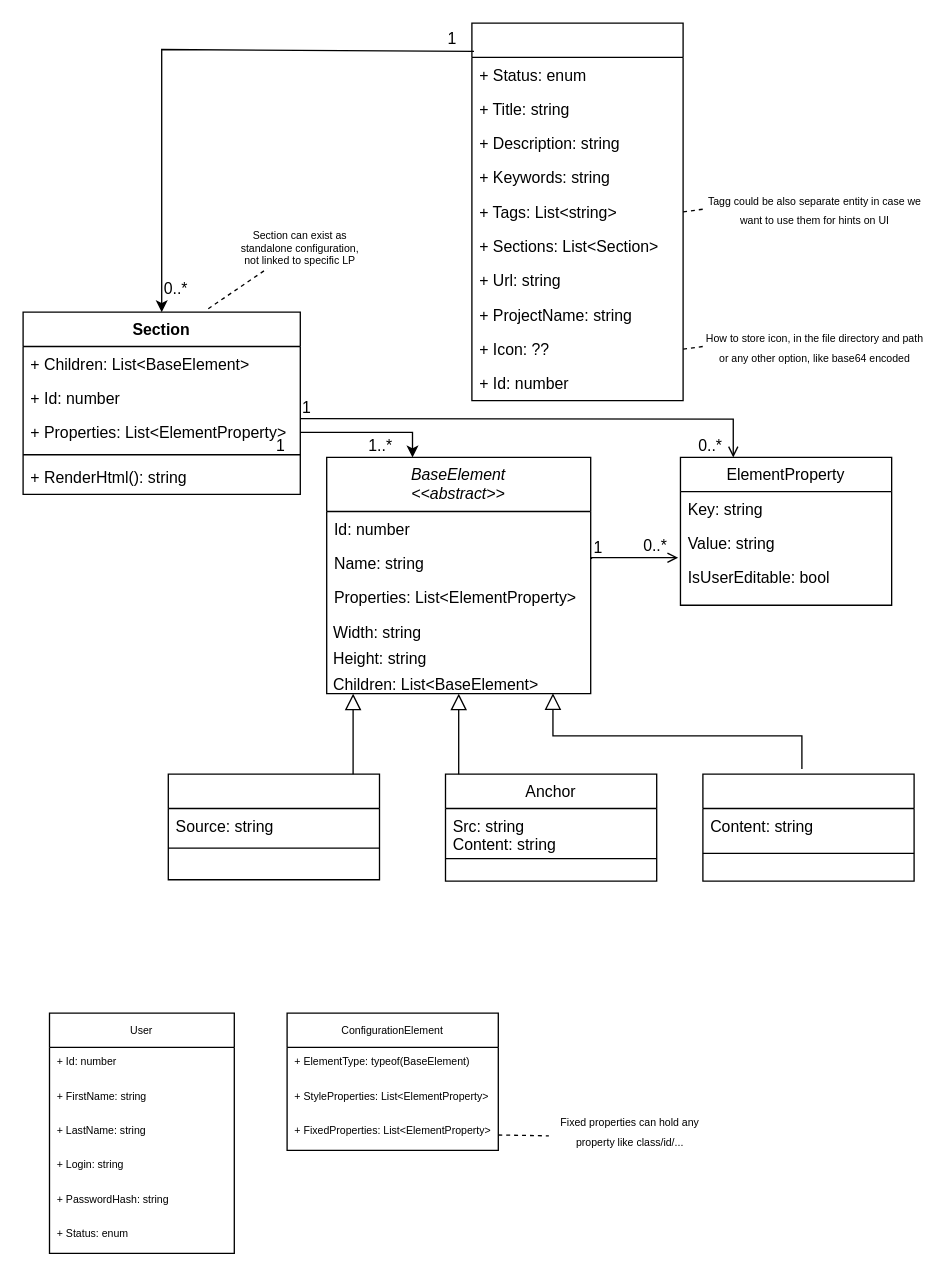
Image size: 950x1280. Some labels were removed from this diagram. Each missing label, with the box of its shape:
Custom: (702, 773, 914, 881)
Image: (167, 773, 380, 880)
LandingPage: (471, 22, 683, 401)
